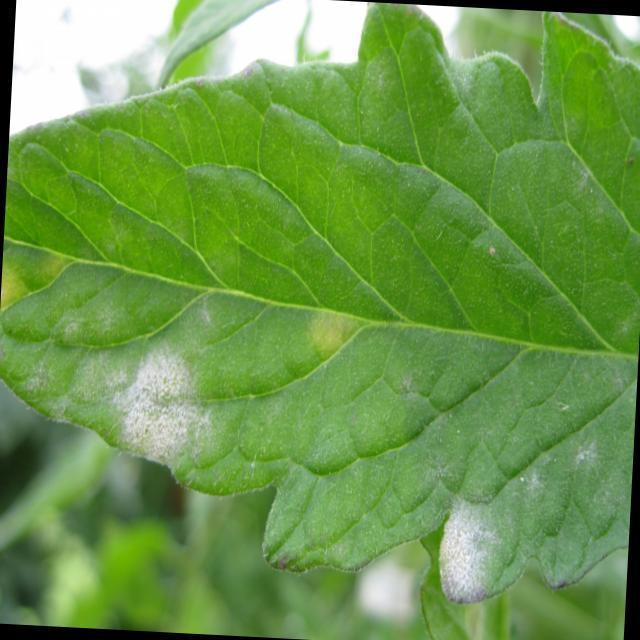Mosaic Virus: (0, 240, 640, 617)
